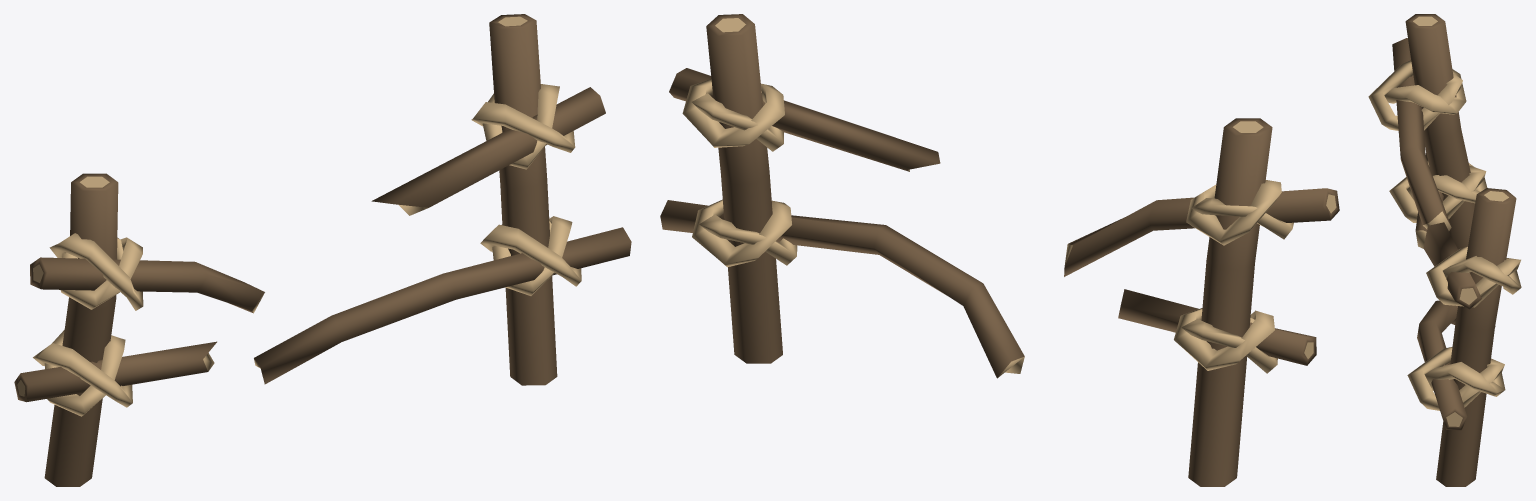
The model's file is rpgpp_av_fence_01b_2m.gltf.
3 views of the same model, side by side, from view 1: azimuth 30°, elevation 25°; view 2: azimuth 150°, elevation 25°; view 3: azimuth 270°, elevation 25° (orthographic). The views are drawn at different scales.
Visible parts, largest first — view 1: rpgpp_av_fence_01b_2m; view 2: rpgpp_av_fence_01b_2m; view 3: rpgpp_av_fence_01b_2m.
Boxes of the visible parts, left/top/right/bottom form: rpgpp_av_fence_01b_2m: left=14, top=14, right=631, bottom=486; rpgpp_av_fence_01b_2m: left=660, top=14, right=1339, bottom=486; rpgpp_av_fence_01b_2m: left=1368, top=14, right=1521, bottom=486.
Size of the model in its own units: 0.0284 by 0.0148 by 0.00719.
1 material, 1 textured.
